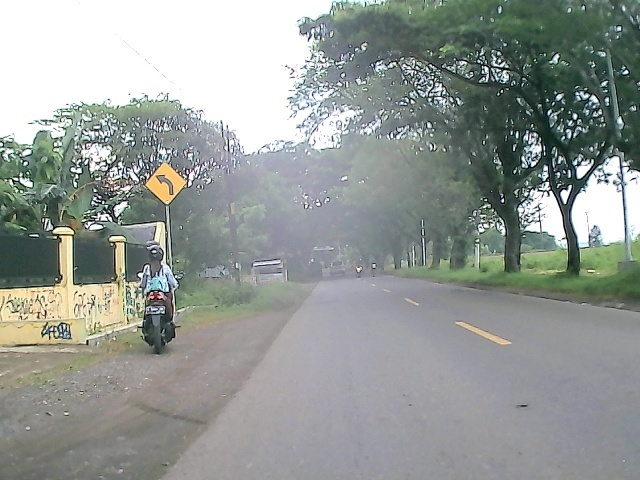Tikungan ke kiri: (142, 161, 189, 204)
